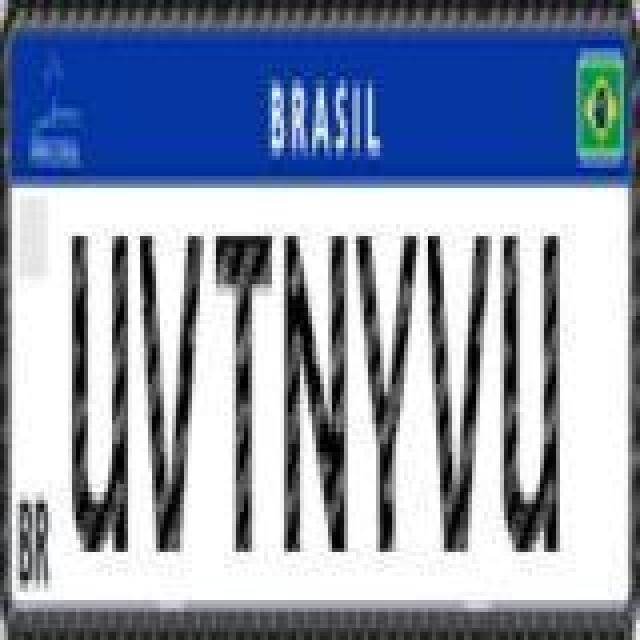N: (282, 228, 350, 556)
T: (214, 228, 274, 556)
U: (496, 226, 560, 558), (70, 226, 130, 558)
V: (138, 228, 206, 556), (428, 228, 492, 556)
Y: (352, 228, 416, 556)
